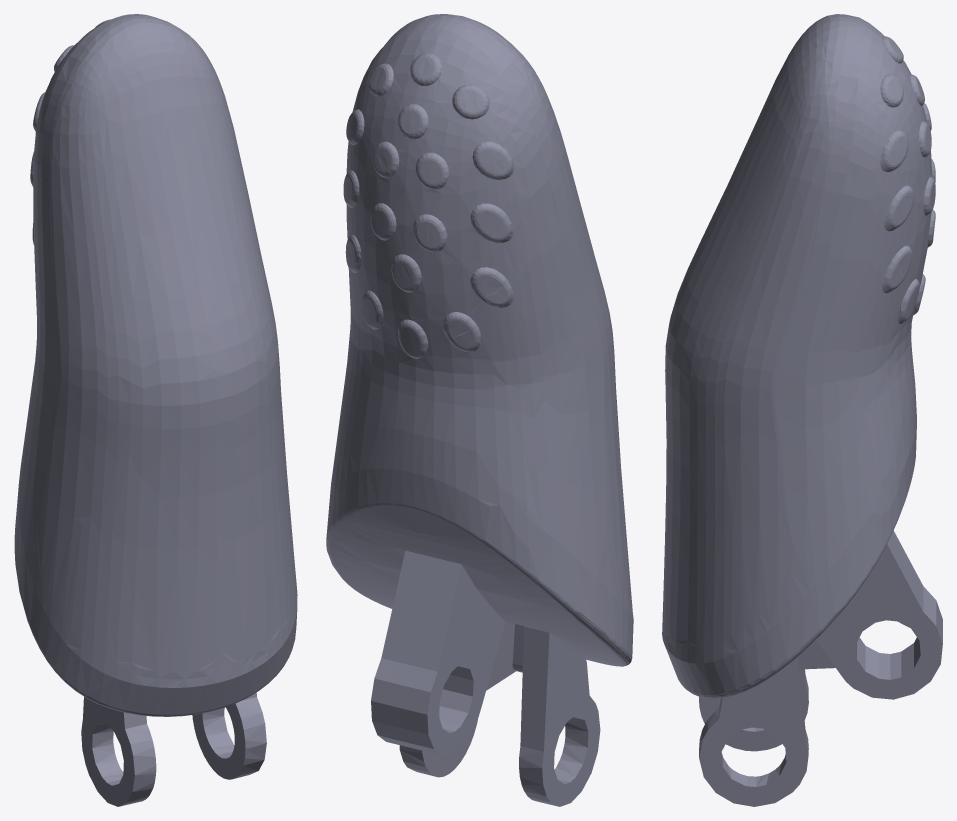
Rendered from hand2_link_5_2_visuals.obj.
3 views of the same model, side by side, from view 1: azimuth 30°, elevation 25°; view 2: azimuth 150°, elevation 25°; view 3: azimuth 270°, elevation 25° (orthographic). The views are drawn at different scales.
Size of the model in its own units: 0.0134 by 0.0379 by 0.0128.
